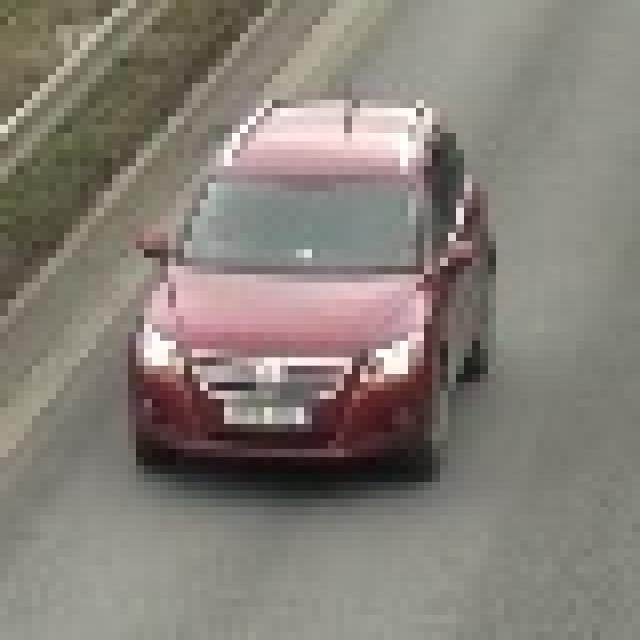maroon: (133, 93, 504, 500)
